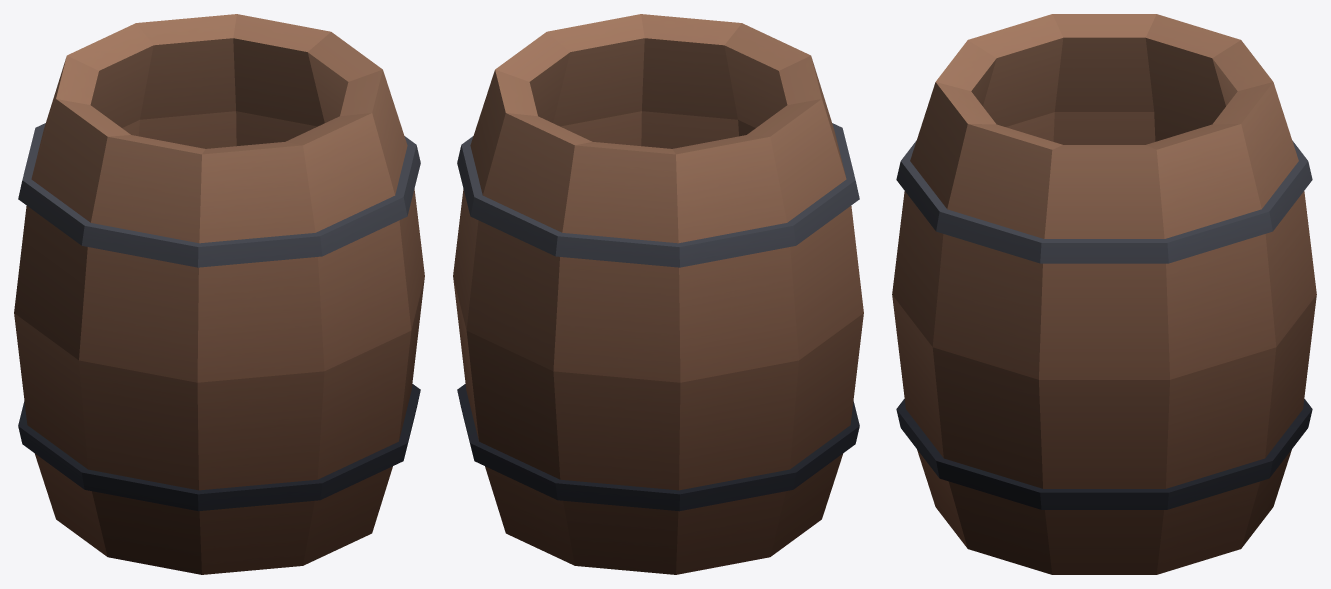
File: beczka3.fbx
3 renders of one model, left to right at view 1: azimuth 30°, elevation 25°; view 2: azimuth 150°, elevation 25°; view 3: azimuth 270°, elevation 25°, orthographic.
Parts seen in each view (by area): view 1: beczka3; view 2: beczka3; view 3: beczka3.
Boxes of the visible parts, box(x1,y1,x2,y2) form: beczka3: box(14, 14, 424, 574); beczka3: box(453, 14, 863, 574); beczka3: box(892, 14, 1316, 574).
Bounding box in the file's own units: 239 × 278 × 251.
